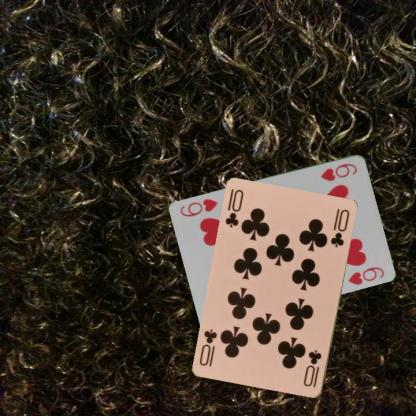10c: (222, 188, 245, 230), (301, 347, 323, 389)
6h: (318, 161, 359, 182)
